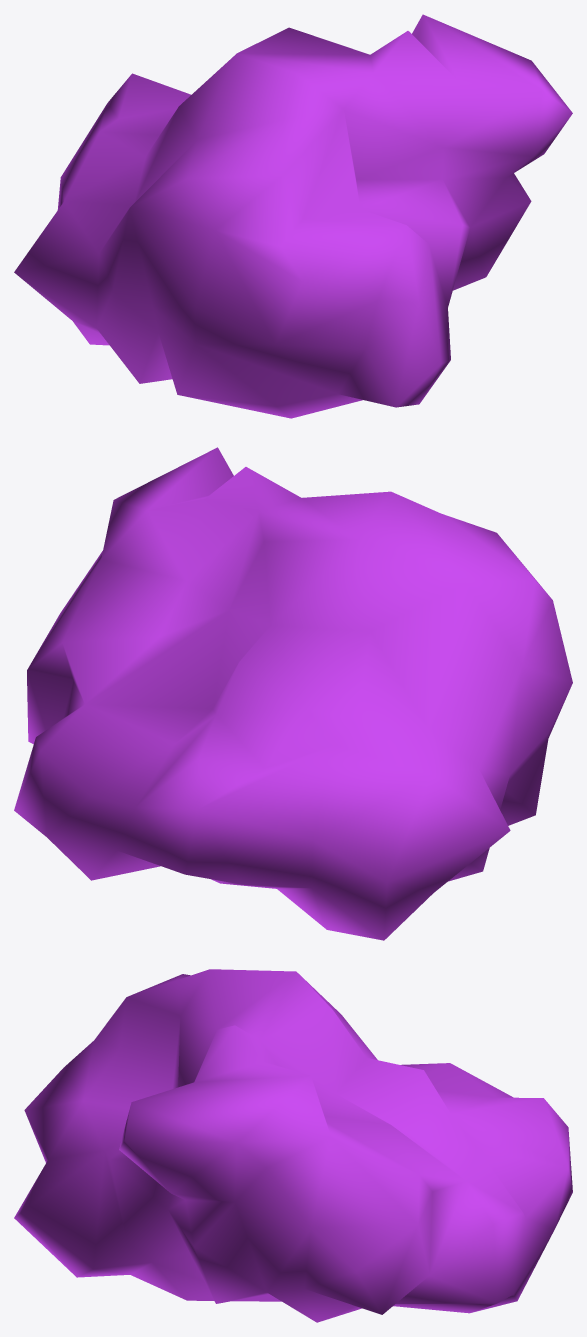
The model's file is Mgenitalium_p200_1bhg_0_1_0.dae.
3 views of the same model, one above another, from view 1: azimuth 30°, elevation 25°; view 2: azimuth 150°, elevation 25°; view 3: azimuth 270°, elevation 25° (orthographic). The views are drawn at different scales.
Visible parts, largest first — view 1: _1bhgACMS; view 2: _1bhgACMS; view 3: _1bhgACMS.
Part boxes in pixels (box(x1,y1,x2,y2)): _1bhgACMS: box(14, 14, 572, 418); _1bhgACMS: box(14, 447, 572, 940); _1bhgACMS: box(14, 969, 572, 1322).
Size of the model in its own units: 78.51 by 54.16 by 85.78.
